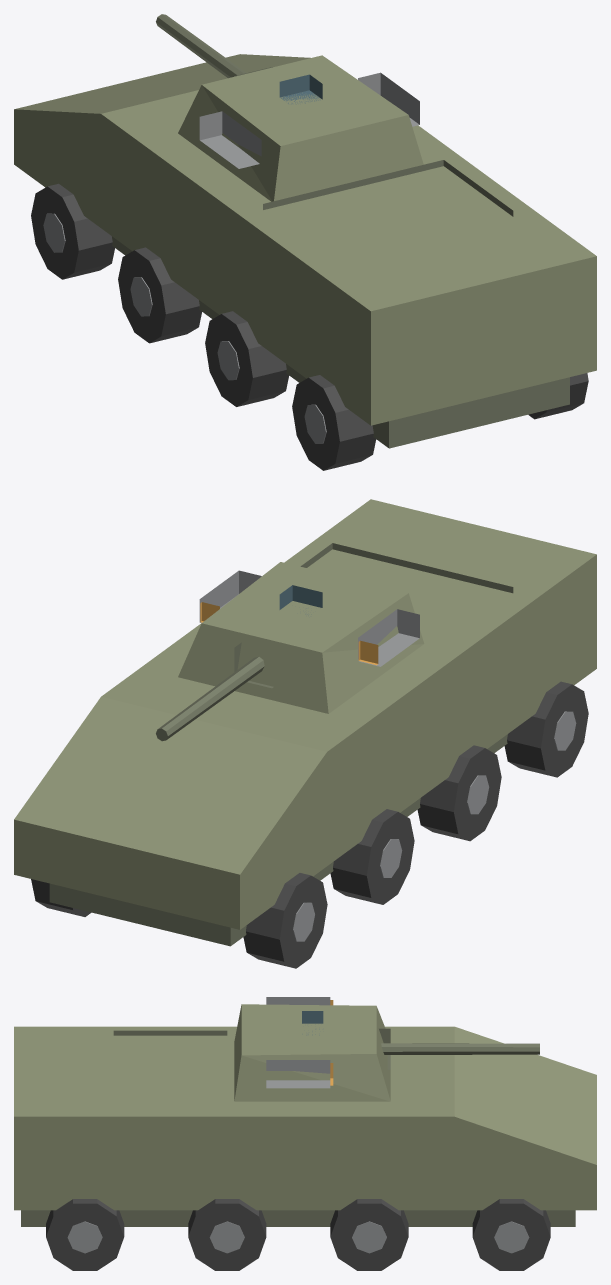
The model's file is mass_assault_vehicle.glb.
3 renders of one model, top to bottom at view 1: azimuth 30°, elevation 25°; view 2: azimuth 150°, elevation 25°; view 3: azimuth 270°, elevation 25°, orthographic. The views are drawn at different scales.
Visible parts, largest first — view 1: mass_assault_vehicle; view 2: mass_assault_vehicle; view 3: mass_assault_vehicle.
Part boxes in pixels (x1,y1,x2,y2): mass_assault_vehicle: (14, 14, 596, 470); mass_assault_vehicle: (14, 499, 596, 968); mass_assault_vehicle: (14, 997, 596, 1270).
Bounding box in the file's own units: 3.32 × 3.17 × 8.2.
